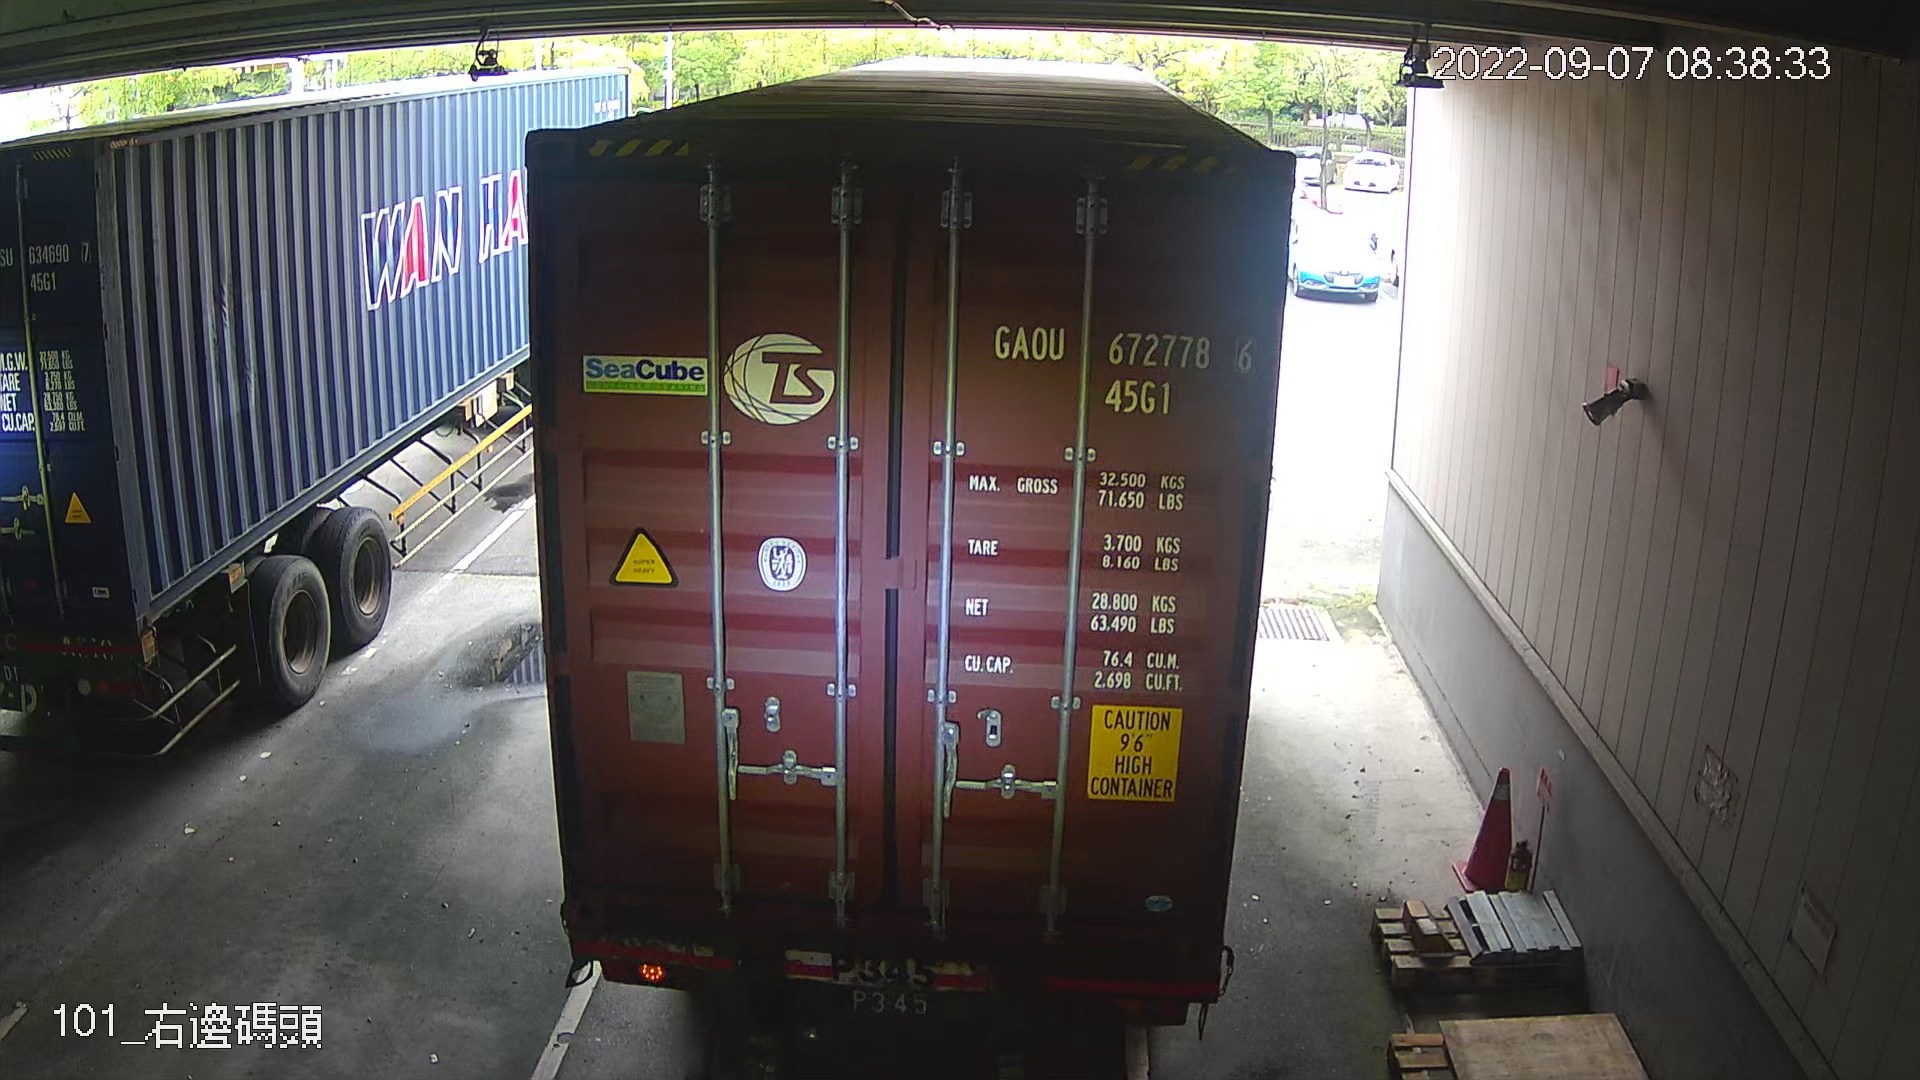container: (973, 309, 1266, 427)
